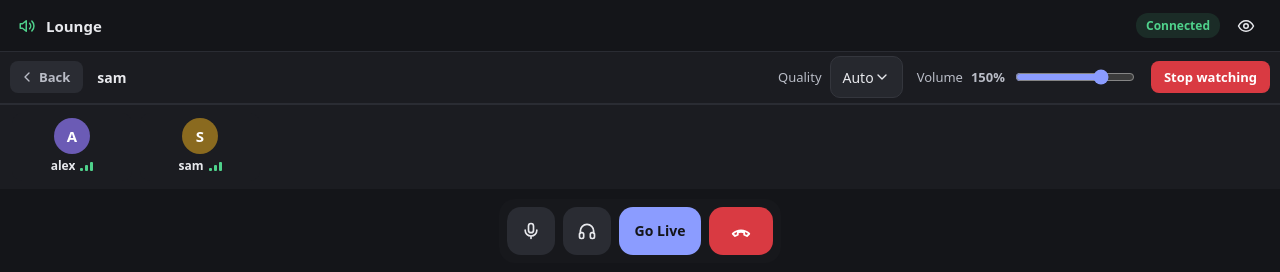
Test: full view › stream_volume_is_the_remembered_one_and_saves
Step 1. Set the slider named "Stream volume" to "60" → (1054, 77), box [1015,69,1135,85]
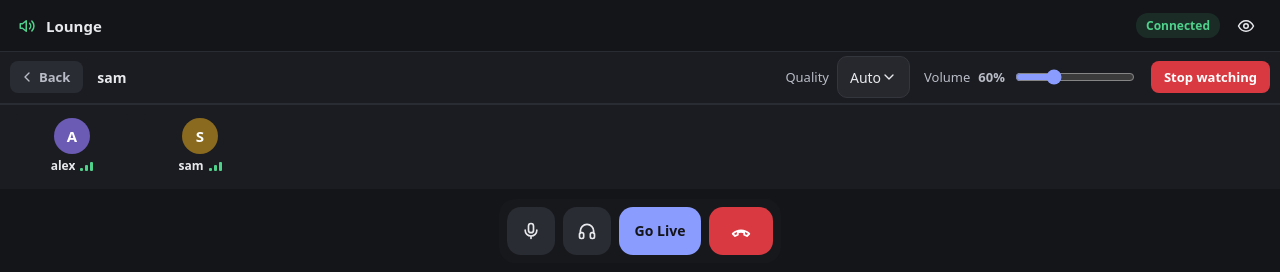
Check: the element with class "bar" shows "60%", box [978,68,1005,86]
